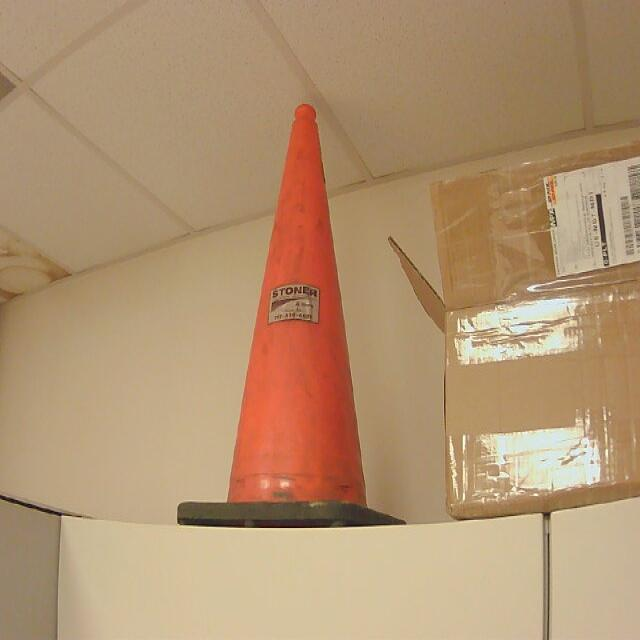traffic cone: (177, 105, 403, 528)
